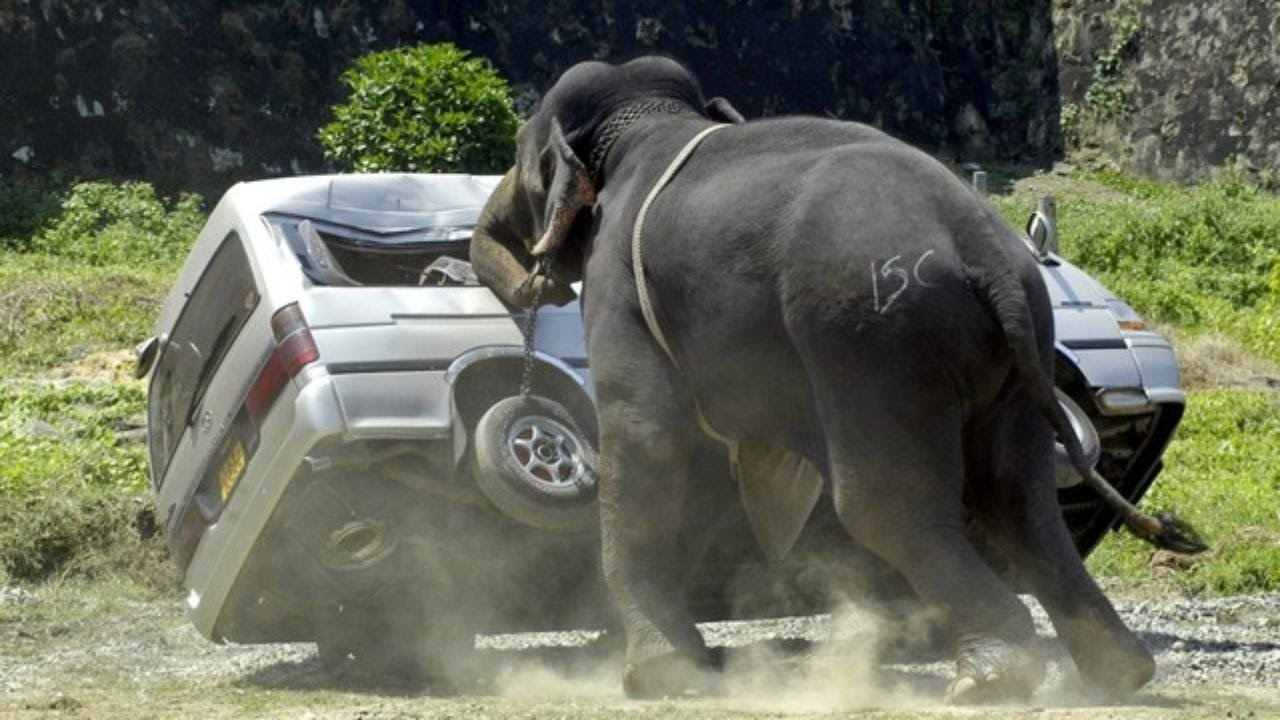elephant: (476, 52, 1186, 716)
